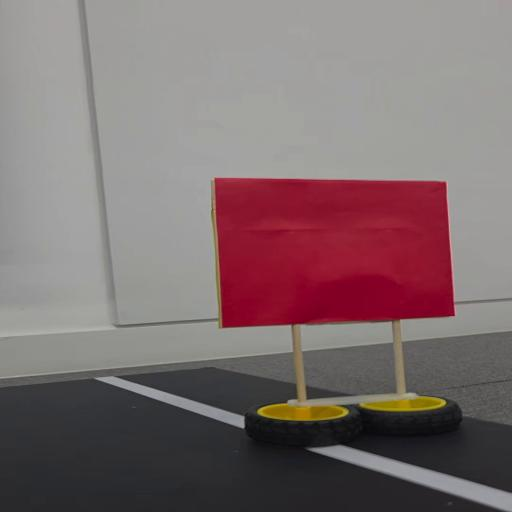Sign_A: (197, 172, 512, 450)
